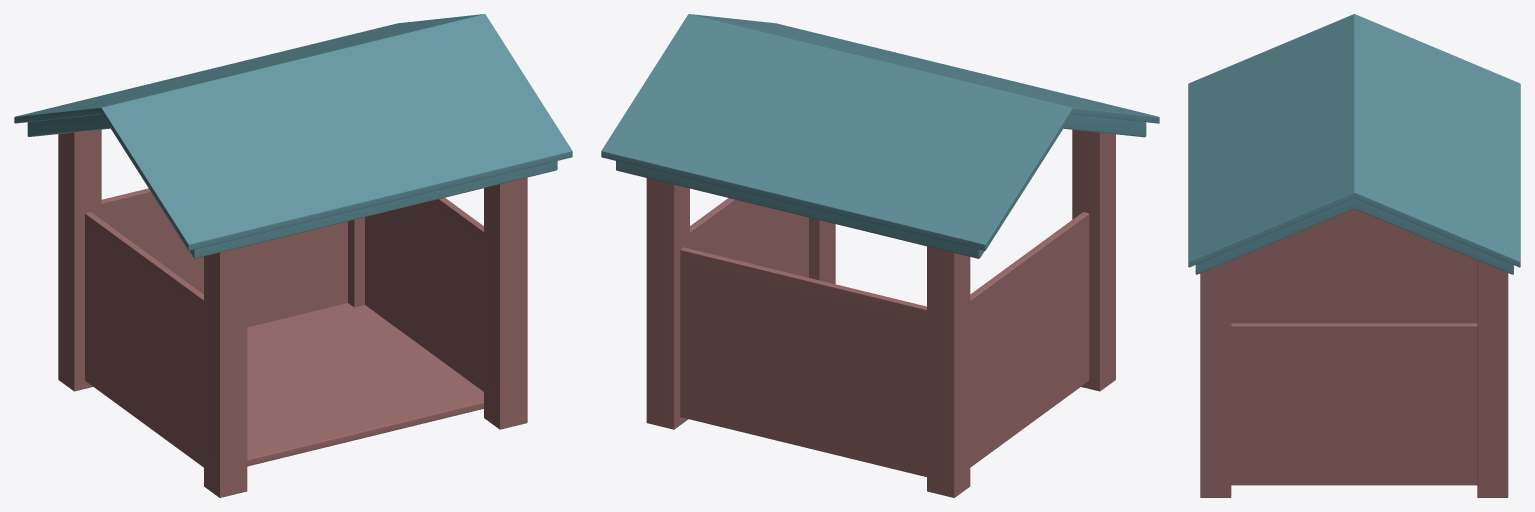
The model's file is Shed.fbx.
The picture shows the model from 3 angles, left to right: view 1: azimuth 30°, elevation 25°; view 2: azimuth 150°, elevation 25°; view 3: azimuth 270°, elevation 25°; orthographic projection. The views are drawn at different scales.
Visible parts, largest first — view 1: Joshs_stuff:Shed_Assembled_Joshs_stuff:Shed_Floor_Modular; view 2: Joshs_stuff:Shed_Assembled_Joshs_stuff:Shed_Floor_Modular; view 3: Joshs_stuff:Shed_Assembled_Joshs_stuff:Shed_Floor_Modular.
Part boxes in pixels (x1,y1,x2,y2): Joshs_stuff:Shed_Assembled_Joshs_stuff:Shed_Floor_Modular: [14, 14, 572, 497]; Joshs_stuff:Shed_Assembled_Joshs_stuff:Shed_Floor_Modular: [601, 14, 1159, 497]; Joshs_stuff:Shed_Assembled_Joshs_stuff:Shed_Floor_Modular: [1188, 14, 1520, 497].
Bounding box in the file's own units: 3.43 × 2.9 × 2.7.
